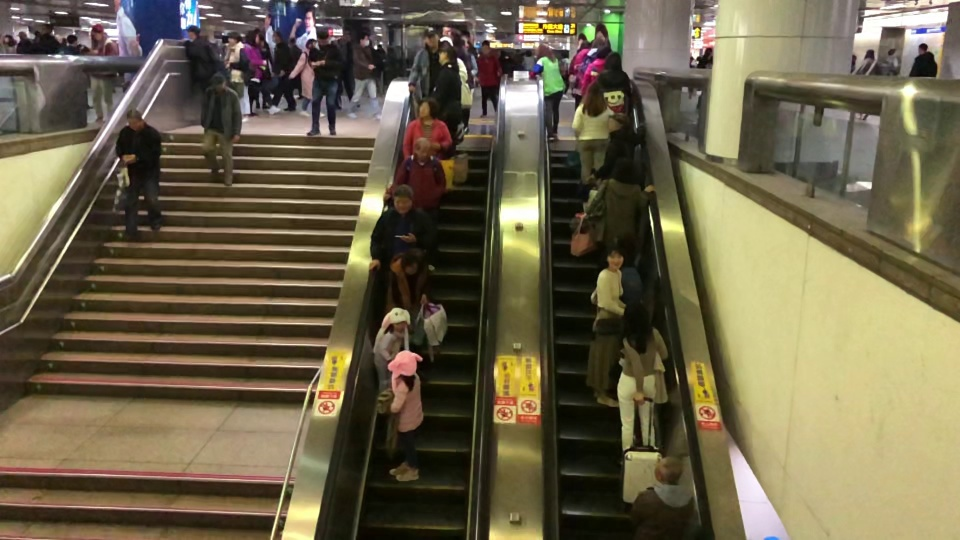person_head: (240, 31, 263, 116), (652, 455, 685, 482), (611, 157, 640, 184), (401, 248, 425, 275), (624, 300, 647, 326), (605, 243, 625, 268), (616, 232, 639, 253), (392, 188, 412, 212), (416, 96, 440, 115), (412, 136, 430, 160), (208, 71, 229, 91), (125, 107, 142, 128), (604, 51, 623, 69), (585, 82, 602, 102), (438, 47, 457, 64), (609, 114, 626, 131), (424, 30, 440, 47), (400, 359, 415, 377), (448, 29, 462, 46), (392, 317, 406, 332), (357, 31, 370, 47), (317, 31, 329, 48), (187, 24, 201, 37), (247, 31, 261, 44), (91, 26, 103, 41), (536, 43, 550, 55), (596, 46, 610, 57), (66, 33, 77, 46), (228, 33, 239, 46), (271, 30, 282, 42), (918, 42, 929, 53), (304, 39, 316, 49), (591, 37, 603, 47), (41, 23, 52, 33), (481, 40, 489, 53), (704, 47, 713, 57), (865, 47, 874, 57), (579, 41, 588, 50), (19, 31, 27, 39), (5, 34, 12, 43), (887, 48, 896, 55), (525, 49, 532, 56), (851, 55, 857, 63)
person_vbox: (381, 136, 446, 271), (615, 300, 669, 451), (582, 157, 656, 251), (583, 244, 625, 408), (116, 107, 163, 240), (366, 187, 435, 271), (629, 455, 694, 540), (199, 71, 242, 188), (385, 358, 423, 483), (373, 317, 407, 454), (570, 82, 613, 186), (305, 31, 346, 138), (587, 115, 646, 181), (528, 42, 565, 140), (399, 96, 453, 163), (346, 31, 383, 119), (381, 248, 431, 313), (85, 25, 118, 122), (180, 24, 224, 95), (615, 231, 652, 311), (289, 39, 326, 118), (58, 33, 93, 111), (224, 33, 251, 122), (406, 30, 441, 95), (271, 31, 296, 111), (599, 50, 631, 112), (476, 39, 501, 118), (856, 47, 882, 122), (432, 46, 461, 103), (447, 29, 475, 86), (582, 46, 611, 91), (694, 47, 713, 112), (908, 42, 937, 78), (582, 37, 603, 71), (40, 25, 59, 54), (882, 48, 901, 77), (17, 32, 31, 53), (523, 50, 534, 70), (4, 34, 15, 52), (851, 53, 857, 72)
